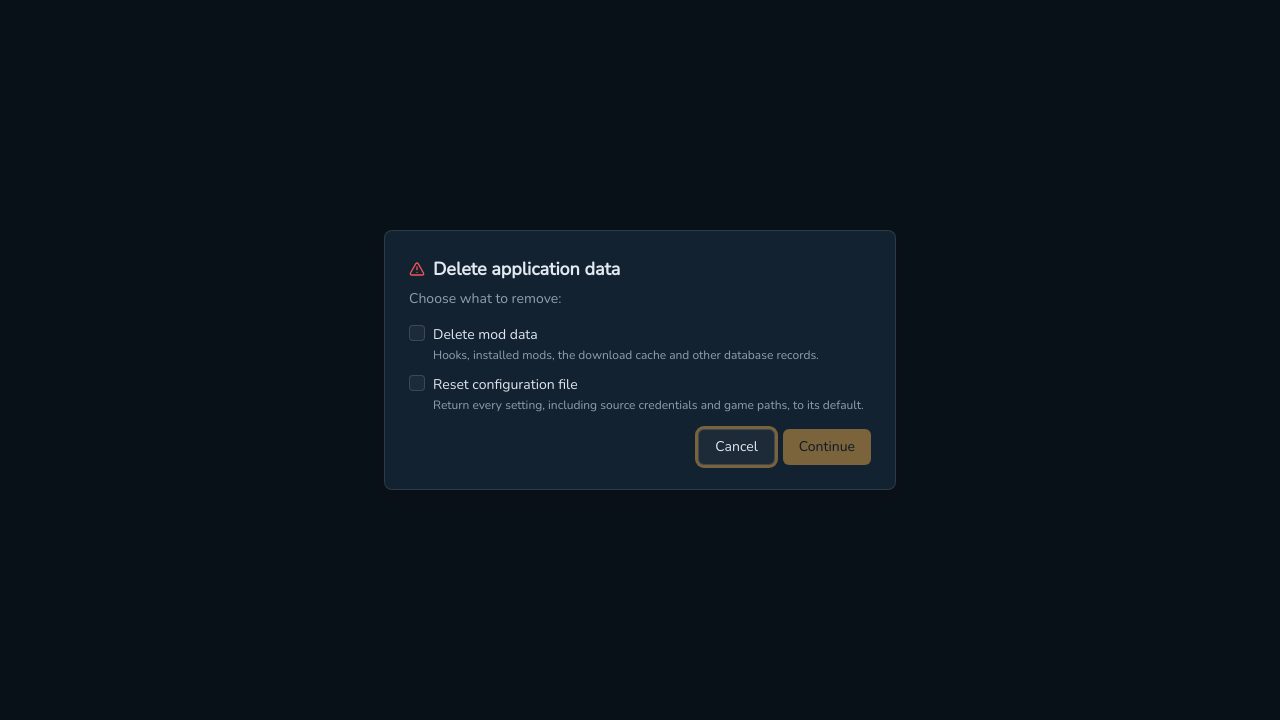
Test: DeleteDataDialog › will not continue until something is selected
This screenshot has width=1280, height=720.
Check: the button "Continue" is disabled, box [783,429,871,465]
Click the checkbox next to "Reset configuration file" at [417, 383], box [409,375,425,391]
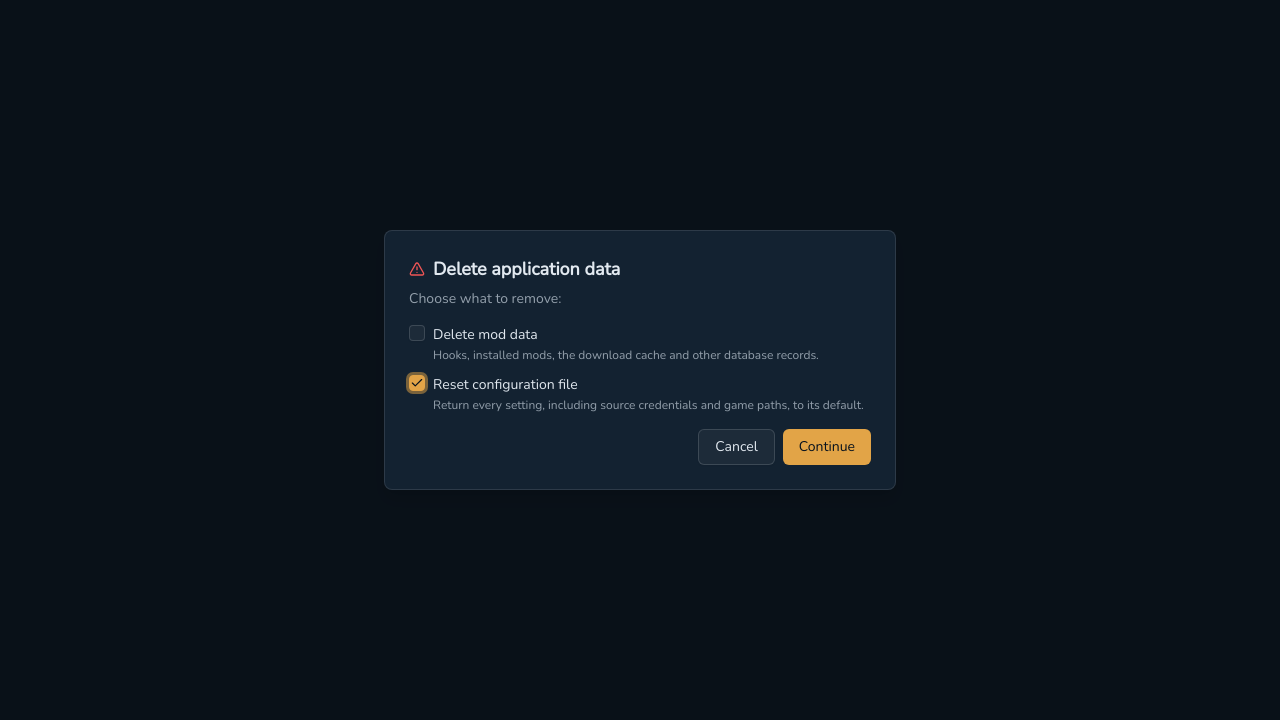
Check: the button "Continue" is enabled, box [783,429,871,465]
